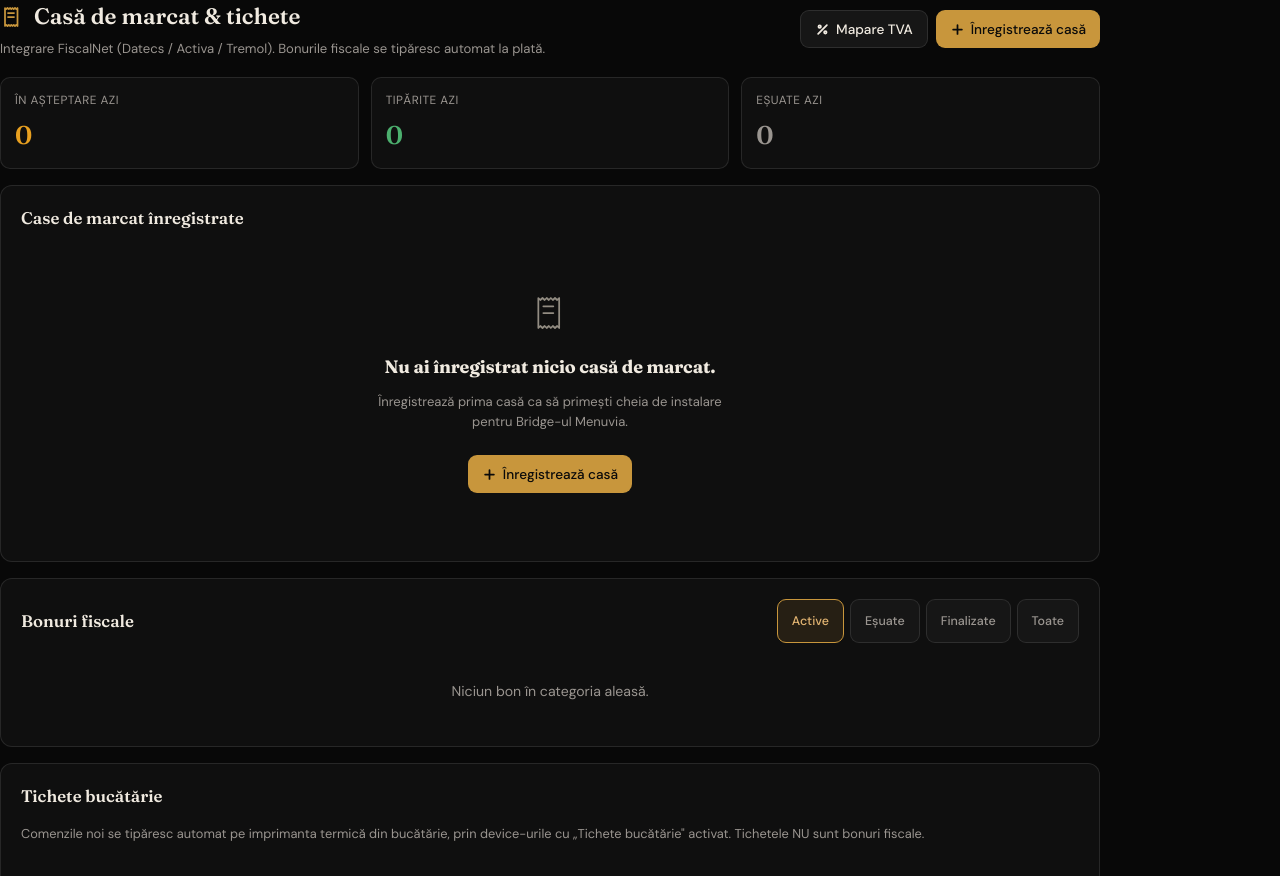
it: BridgeTab — „Bonul a ieșit” (mig 277) › refuzul serverului se afișează cu textul lui, dialogul rămâne deschis
Click the button "Eșuate": (885, 621) [850,599,920,643]
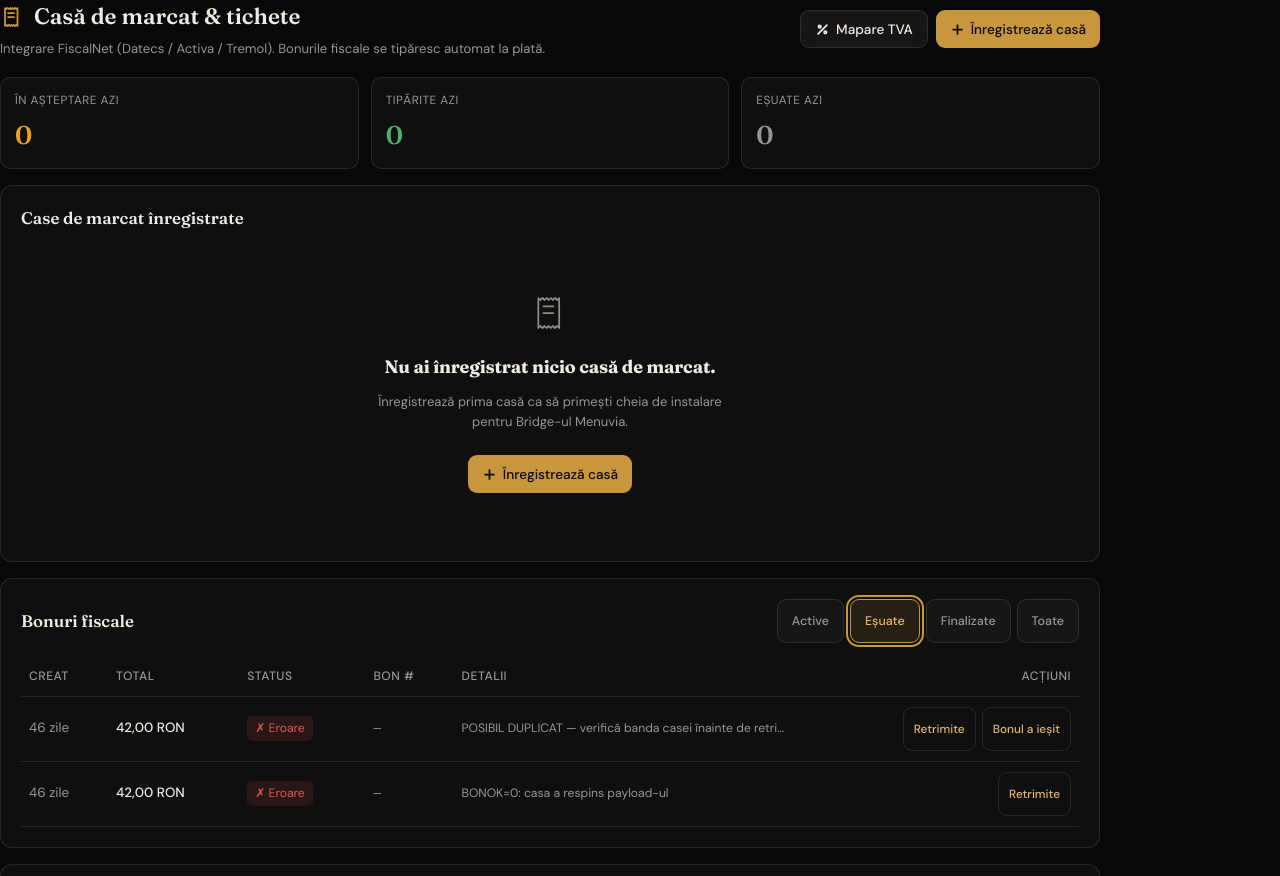
Click the button "Bonul a ieșit": (1026, 729) [982,707,1071,751]
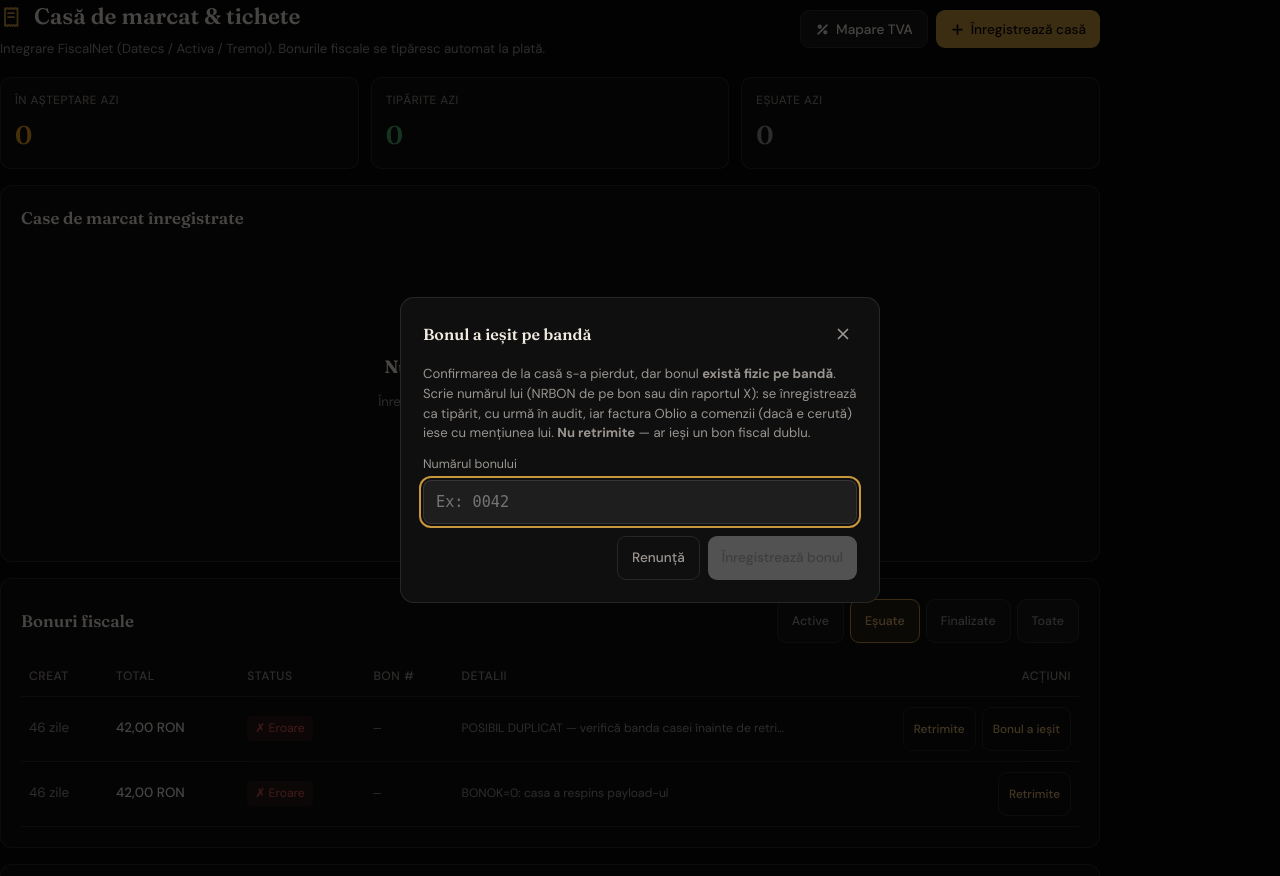
In the field labelled "Numărul bonului": (640, 502) [423,480,857,524], type "0043"
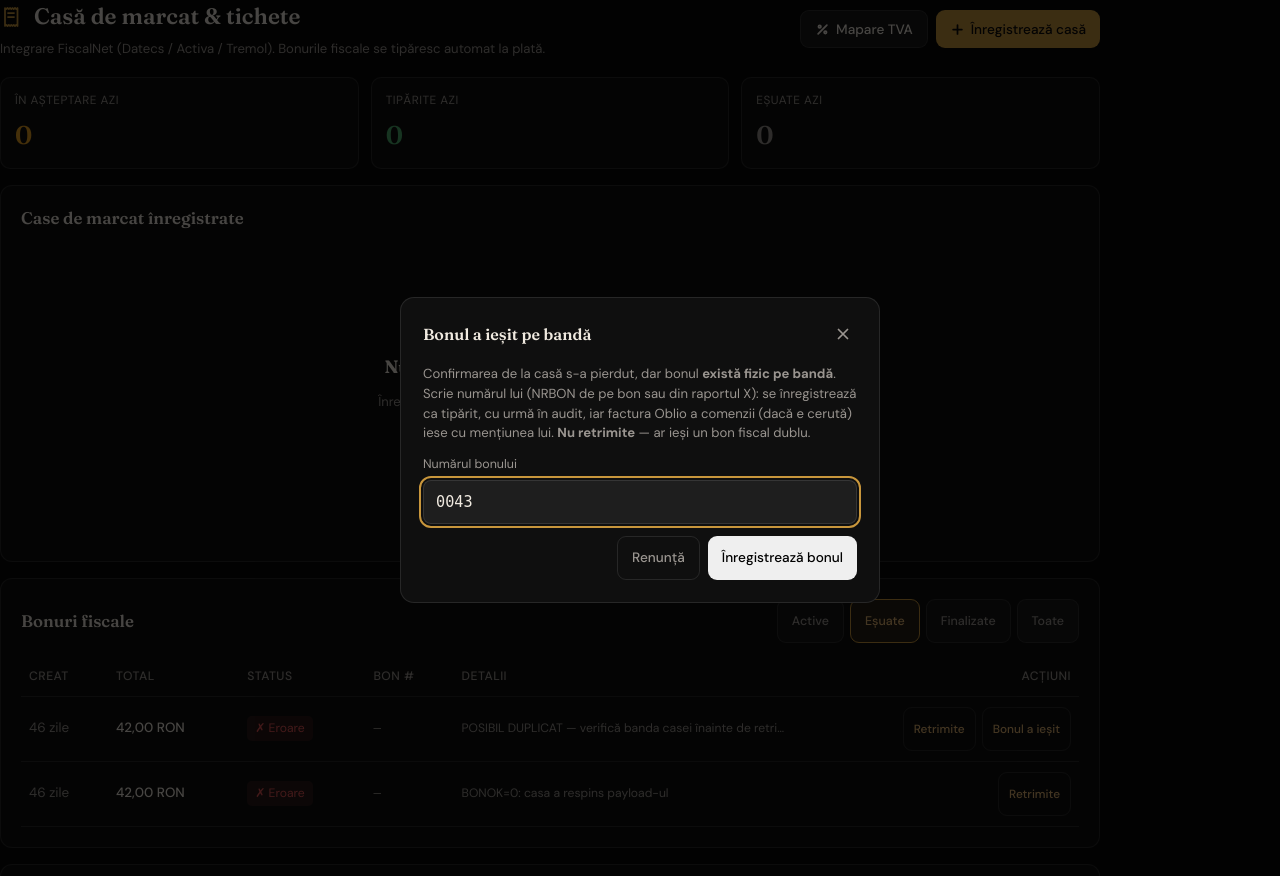
Click the button "Înregistrează bonul": (782, 558) [708,536,857,580]
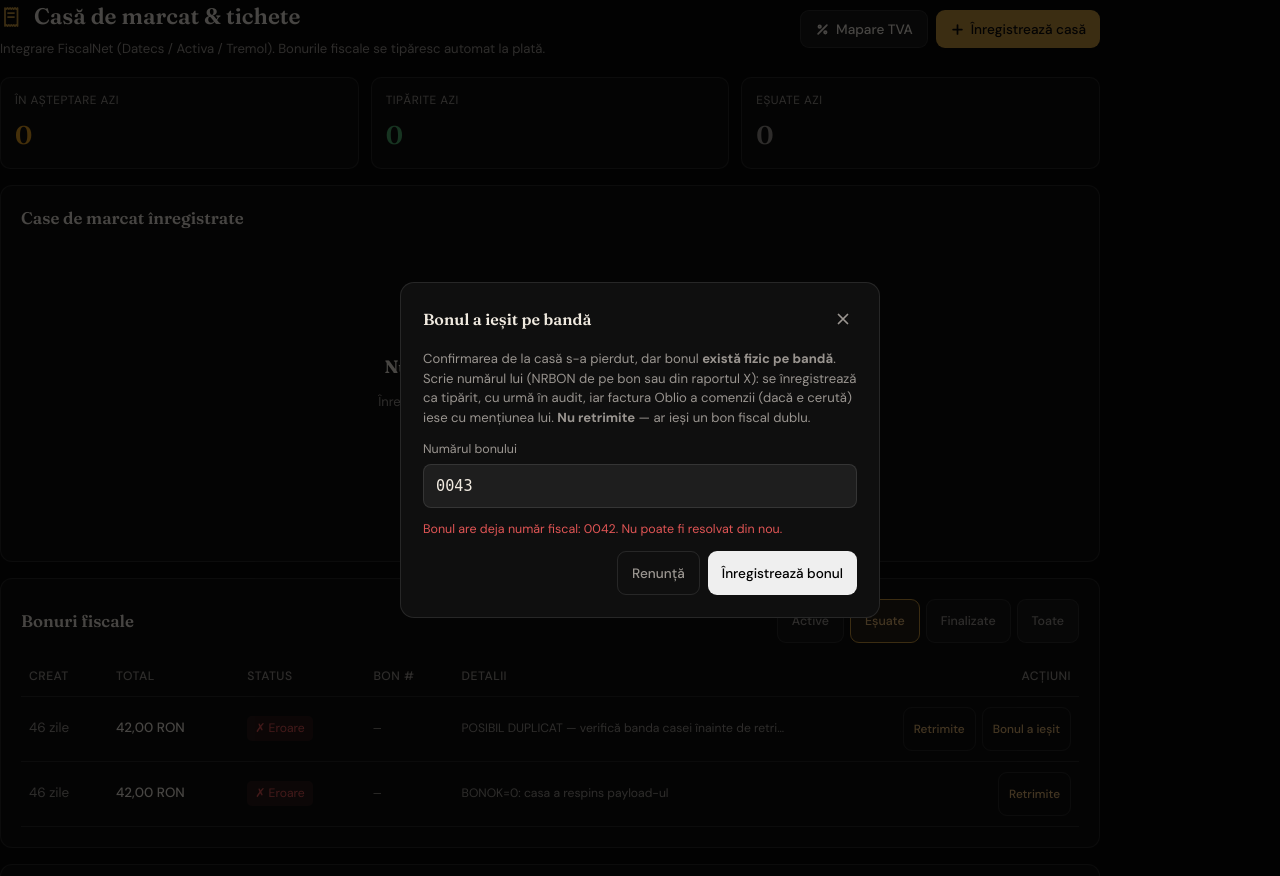
Expected: the heading "Bonul a ieșit pe bandă" is shown, [423,307,591,331]
Expected: the message shows "are deja număr fiscal: 0042", [423,521,782,537]
